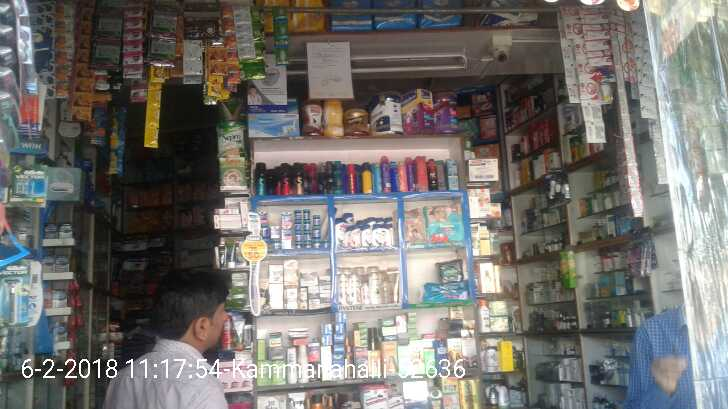beauty: (335, 213, 394, 247)
pharmacy: (424, 205, 464, 240), (294, 209, 303, 249), (312, 214, 321, 249), (303, 210, 311, 248)
